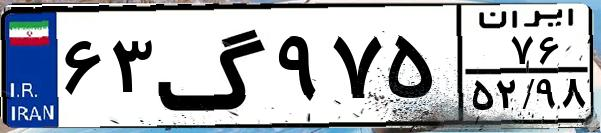2: (495, 70, 520, 125)
3: (110, 28, 156, 98)
5: (385, 28, 445, 110), (470, 70, 495, 125)
6: (57, 26, 110, 100), (537, 27, 568, 80)
7: (330, 28, 385, 110), (508, 27, 537, 80)
8: (560, 70, 590, 125)
9: (270, 28, 330, 110), (535, 70, 560, 125)
گ: (156, 12, 270, 120)
